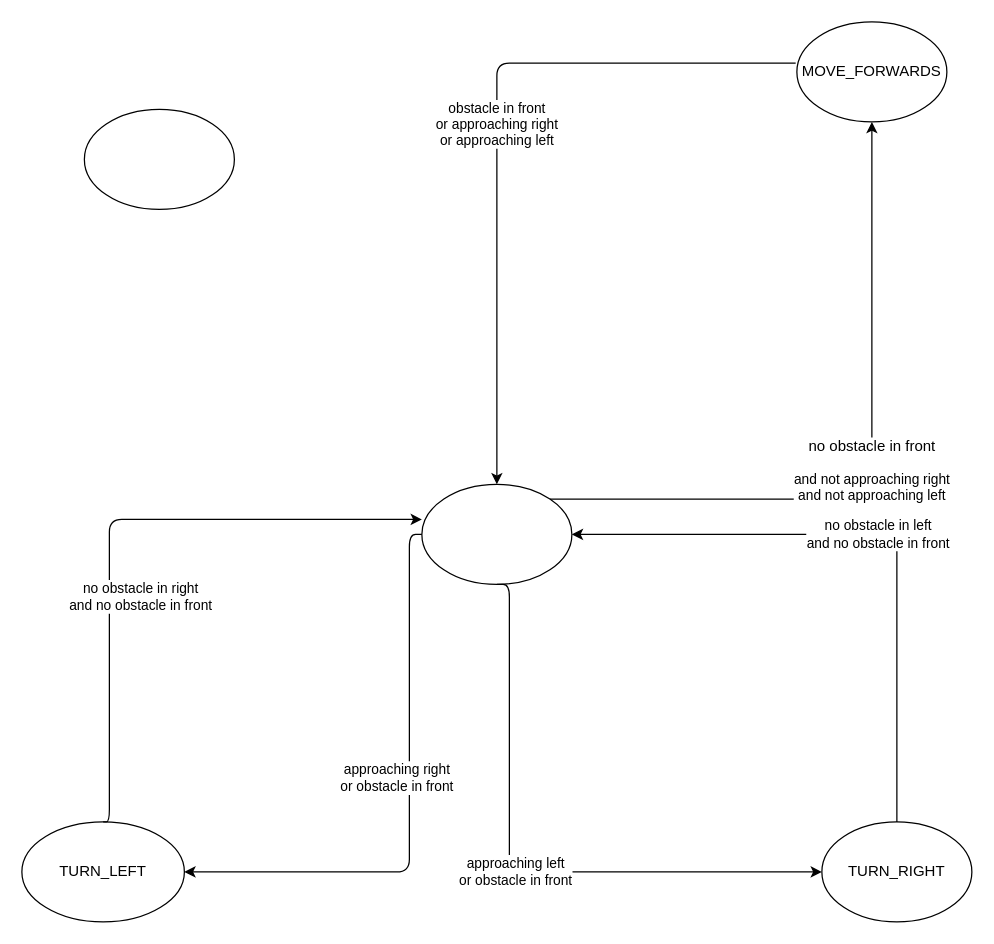
Image size: 994x944. Some labels were removed from this diagram. The box of each missing label's shape, as (x1, y1, x2, y2) in pixels:
MOVE_BACKWARDS: (83, 108, 234, 209)
WAIT: (421, 483, 572, 584)
